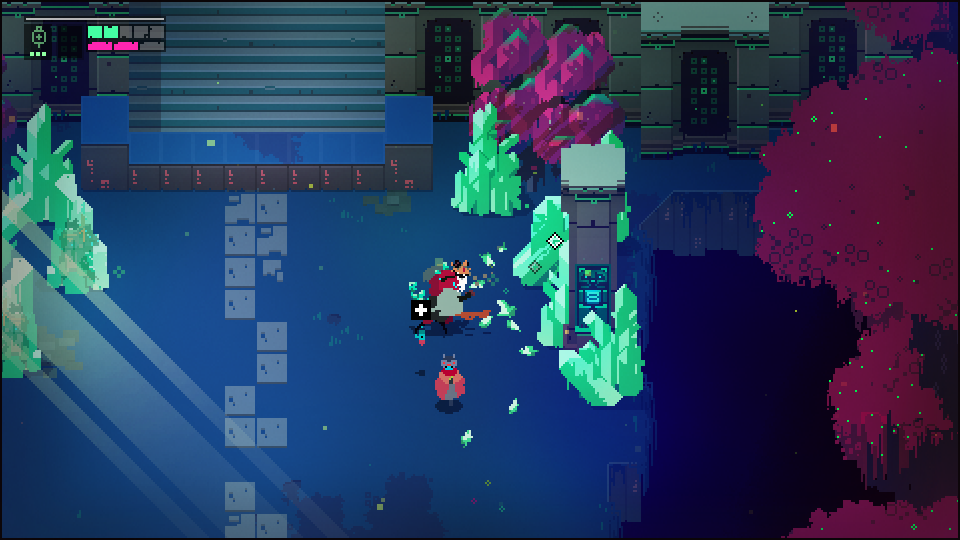hanged_man: (406, 257, 492, 328)
player: (428, 350, 470, 419)
